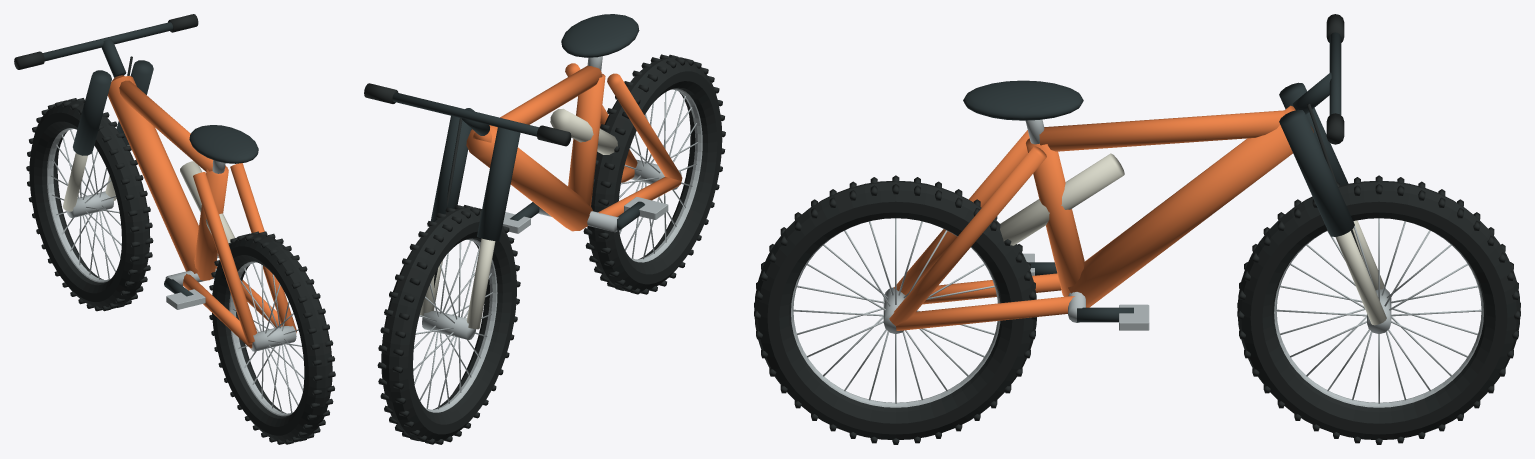
The model's file is bike-v4.glb.
The picture shows the model from 3 angles, left to right: view 1: azimuth 30°, elevation 25°; view 2: azimuth 150°, elevation 25°; view 3: azimuth 270°, elevation 25°; orthographic projection. The views are drawn at different scales.
Visible parts, largest first — view 1: BikeFrame, WheelFront, WheelRear, SuspensionFork, Handlebar, PedalL, Crank; view 2: WheelFront, WheelRear, BikeFrame, SuspensionFork, Handlebar, Crank, PedalL, PedalR; view 3: BikeFrame, WheelFront, WheelRear, SuspensionFork, Handlebar, Crank, PedalR.
Part boxes in pixels (x1,y1,x2,y2): BikeFrame: (107,56,296,348); WheelFront: (26,98,153,311); WheelRear: (209,231,335,444); SuspensionFork: (62,60,153,211); Handlebar: (14,14,198,77); PedalL: (166,289,205,309); Crank: (164,255,218,296); WheelFront: (377,204,520,444); WheelRear: (583,54,725,294); BikeFrame: (434,14,682,287); SuspensionFork: (419,116,520,329); Handlebar: (364,83,571,146); Crank: (510,201,644,232); PedalL: (624,197,668,219); PedalR: (502,212,530,233); BikeFrame: (889,80,1361,330); WheelFront: (1237,175,1520,444); WheelRear: (754,175,1036,444); SuspensionFork: (1279,82,1386,325); Handlebar: (1293,14,1344,144); Crank: (1028,262,1133,322); PedalR: (1119,304,1149,330).
Size of the model in its own units: 0.81 by 1.21 by 2.28.
